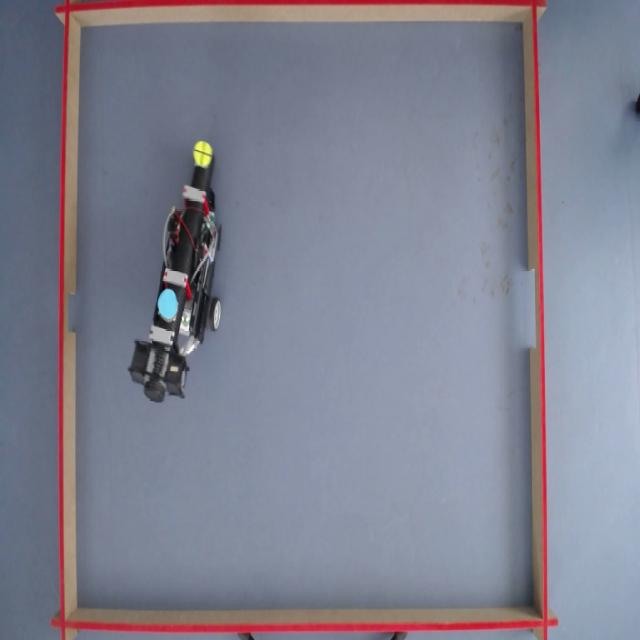robot: (129, 138, 223, 414)
robot-front: (192, 138, 214, 169)
robot-rear: (156, 285, 180, 323)
